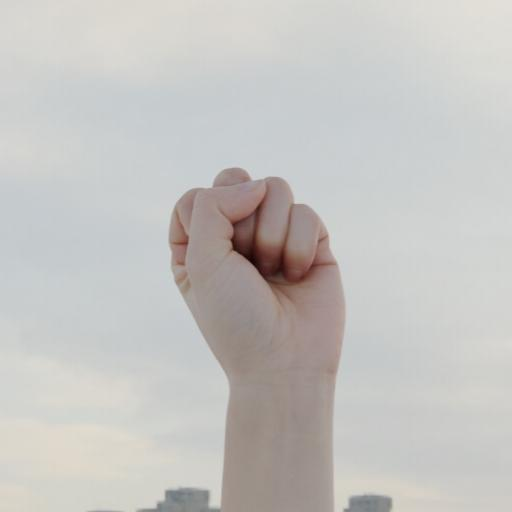S: (161, 154, 359, 418)
